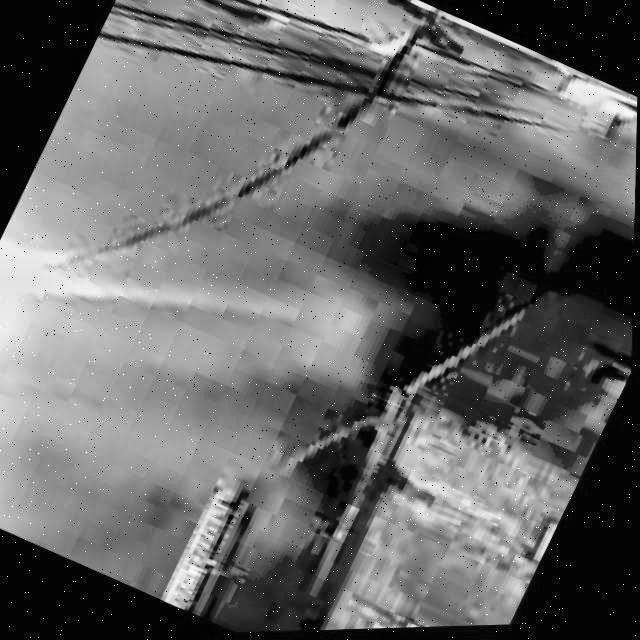Smoke: (0, 51, 497, 640), (155, 0, 640, 370)
